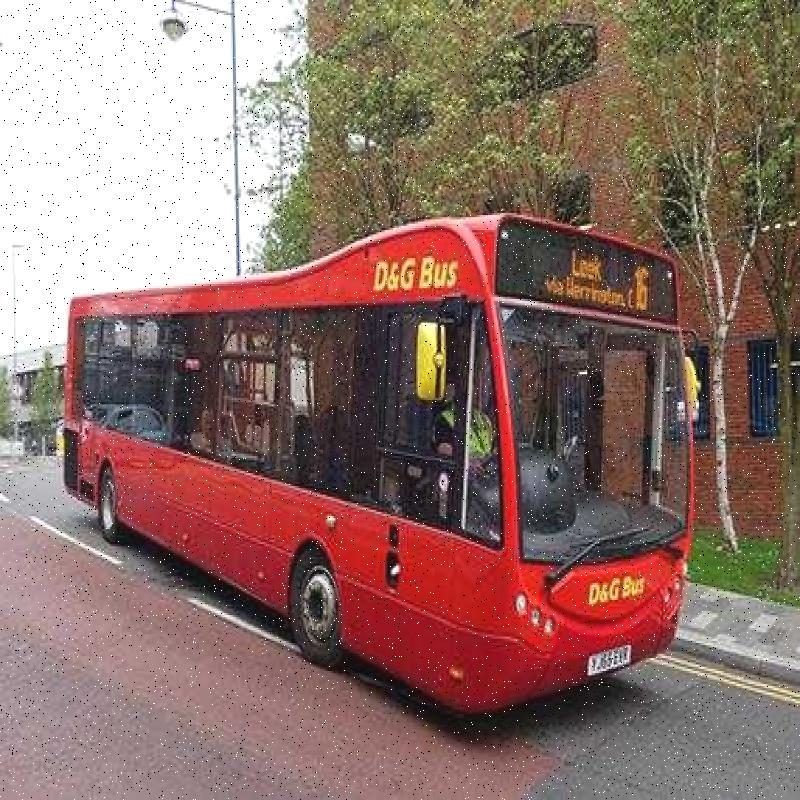bus: (57, 228, 700, 697)
